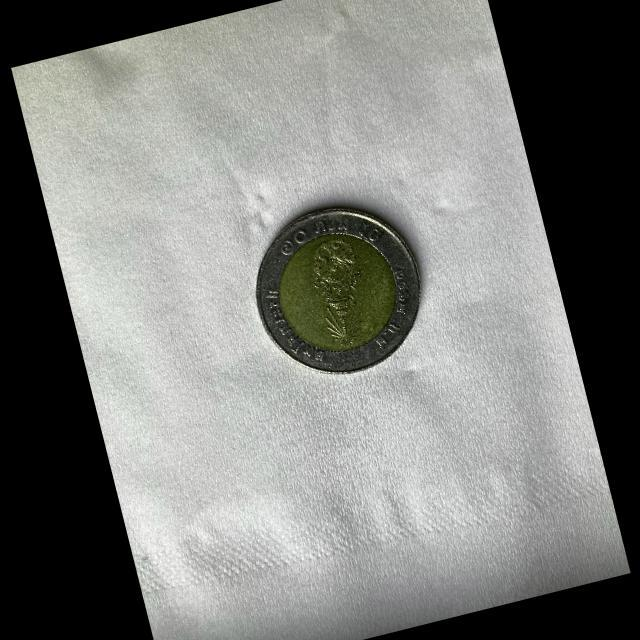10 Bath: (257, 205, 426, 380)
